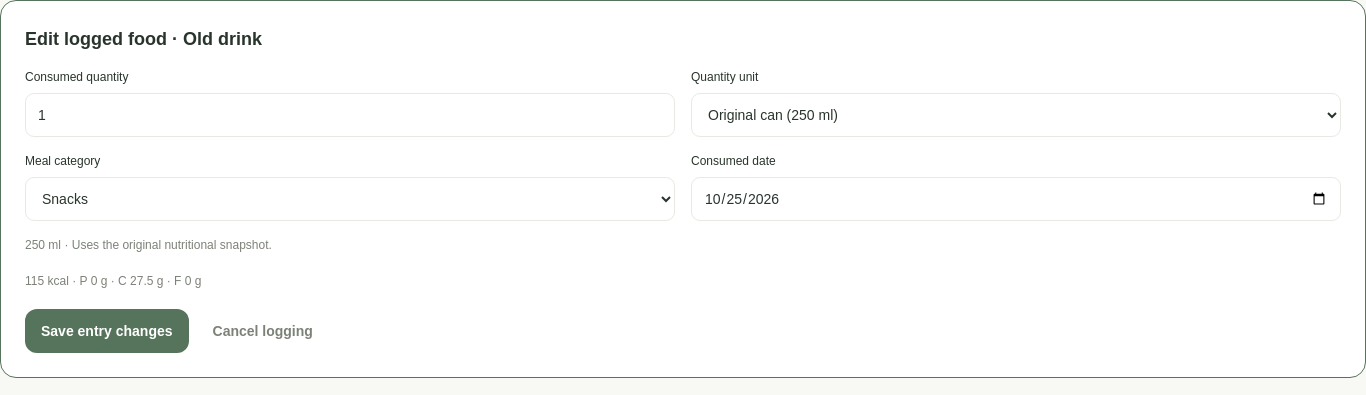
Test: old liquid entry corrections use original volume basis even if the catalog changes
Replace the text in the number field labelled "Consumed quantity" with "2": coordinates (350, 115) [25,93,675,137]
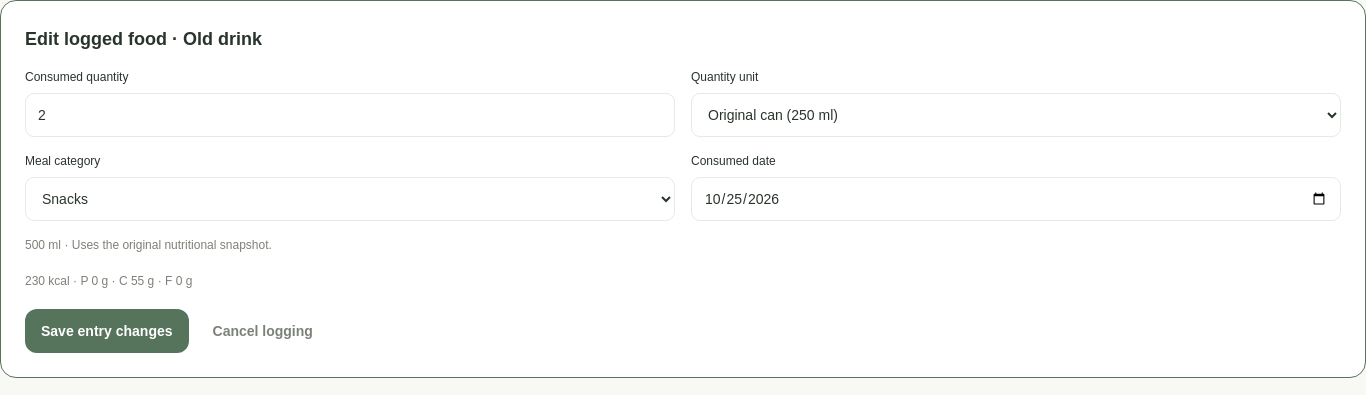
Expected: the element with test id "nutrition-log-editor" shows "230 kcal", [25,274,70,288]
